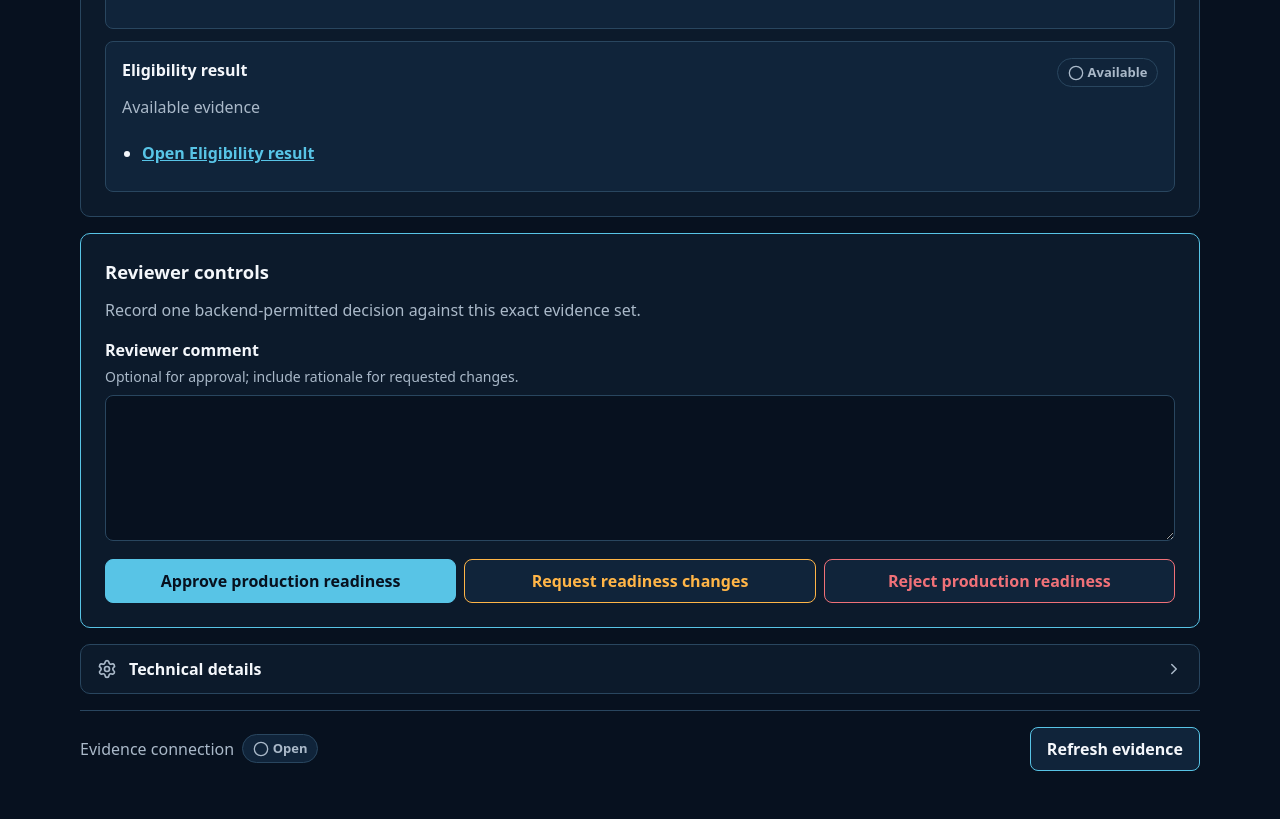
Test: G01ReviewPanel › becomes terminal at expires_at and guards a decision clicked after expiry
The width and height of the screenshot is (1280, 819).
(page scrolled)
Click the button "Approve production readiness": (281, 581) top-left (105, 559), bottom-right (456, 603)
(page scrolled)
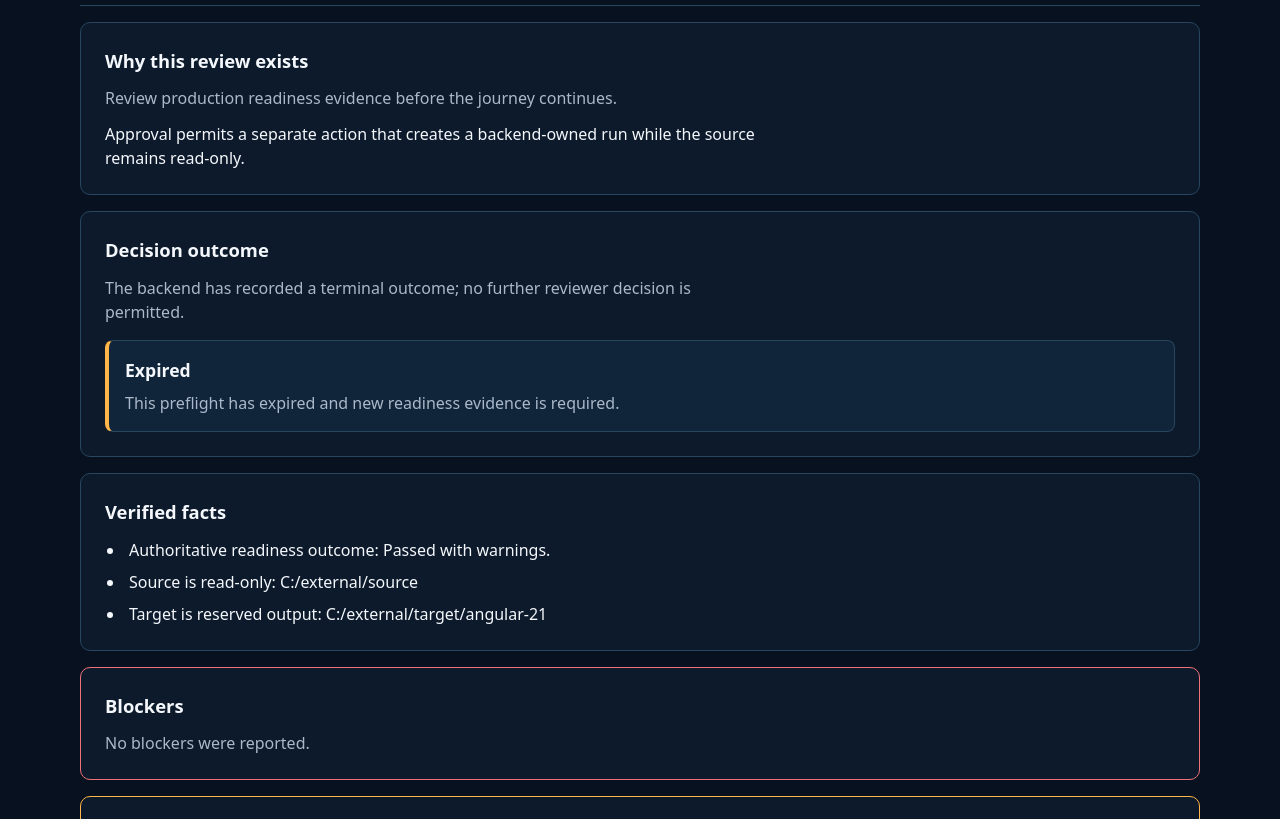
Check: the heading "Expired" is shown, box top-left (125, 358), bottom-right (191, 382)
Check: the button "Approve production readiness" is gone
Check: the button "Request readiness changes" is gone
